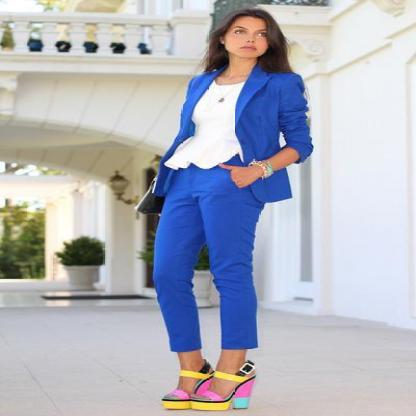jacket: (155, 58, 311, 202)
pants: (151, 163, 271, 351)
shirt: (164, 81, 244, 169)
shoe: (162, 368, 256, 416)
